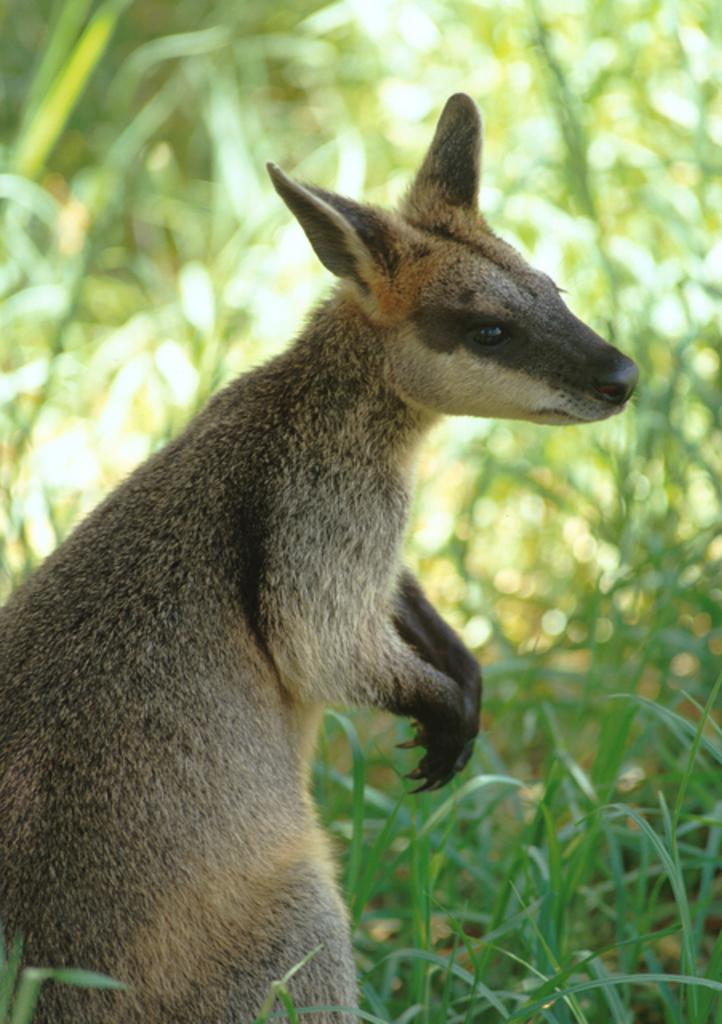kangaroo: (0, 96, 642, 1022)
